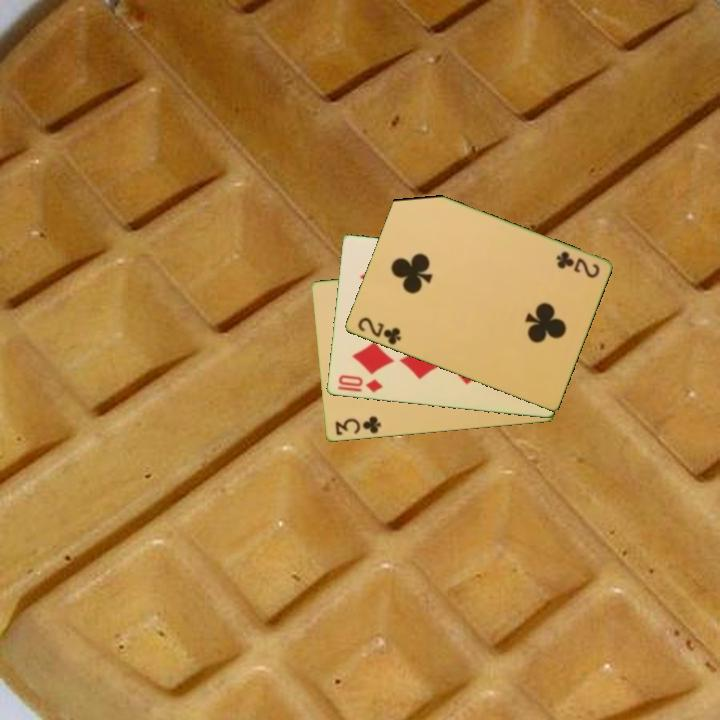10d: (334, 372, 385, 396)
2c: (354, 314, 404, 348), (552, 248, 602, 281)
3c: (331, 413, 384, 439)
